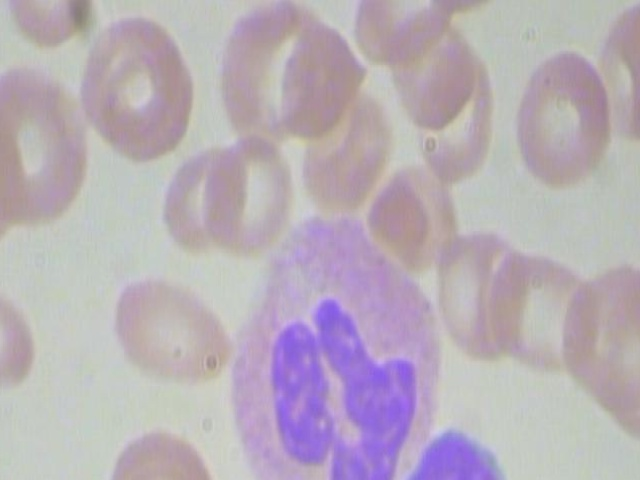RBC: (110, 256, 236, 406), (482, 239, 605, 386), (507, 39, 617, 190), (377, 0, 484, 143), (75, 10, 185, 149), (432, 224, 542, 363), (201, 122, 296, 255), (159, 137, 250, 256), (100, 425, 227, 480), (0, 0, 98, 57)
WBC: (232, 206, 460, 480), (368, 425, 540, 480)
